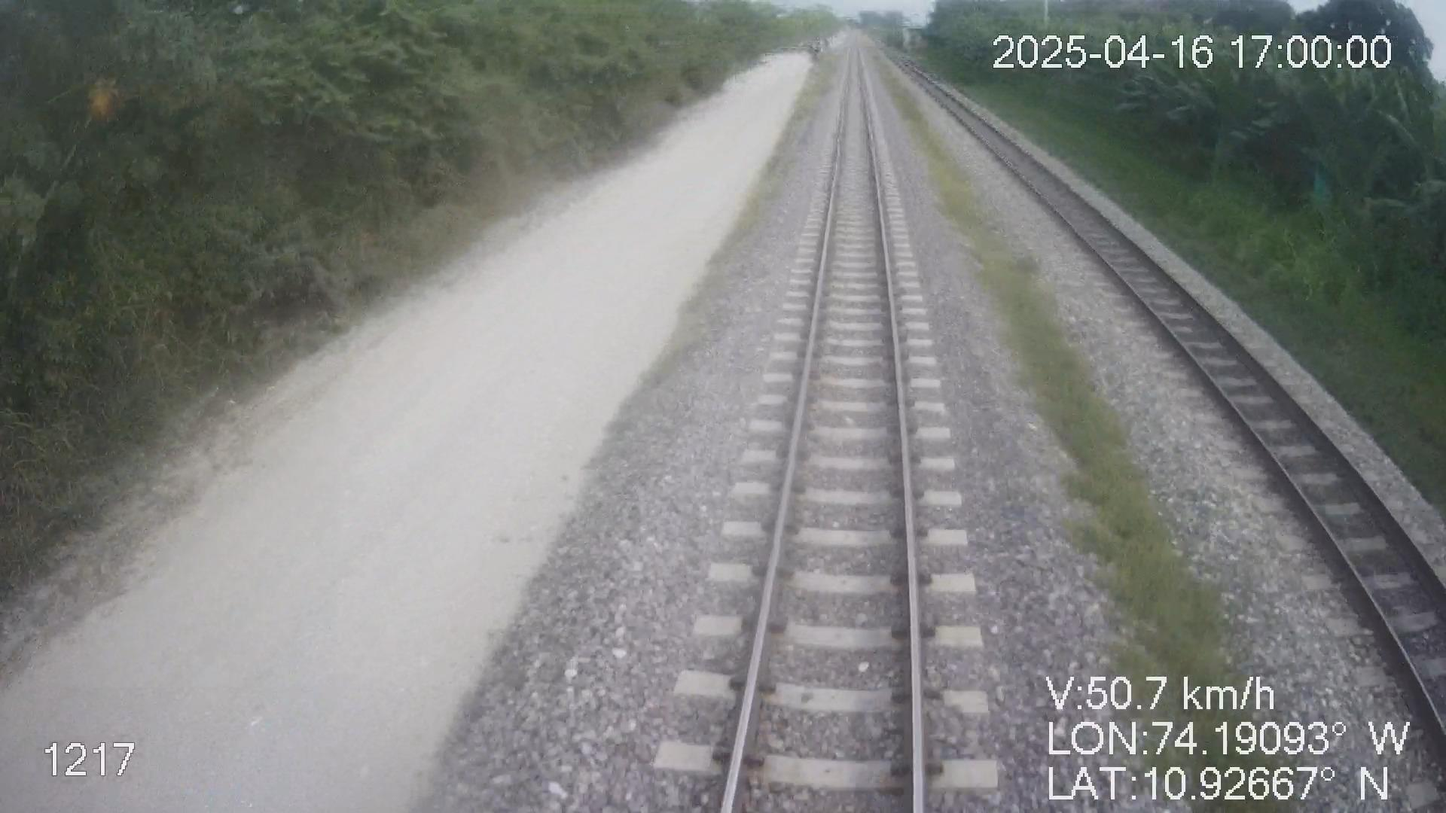Pasto: (0, 0, 827, 575), (861, 0, 1445, 525)
